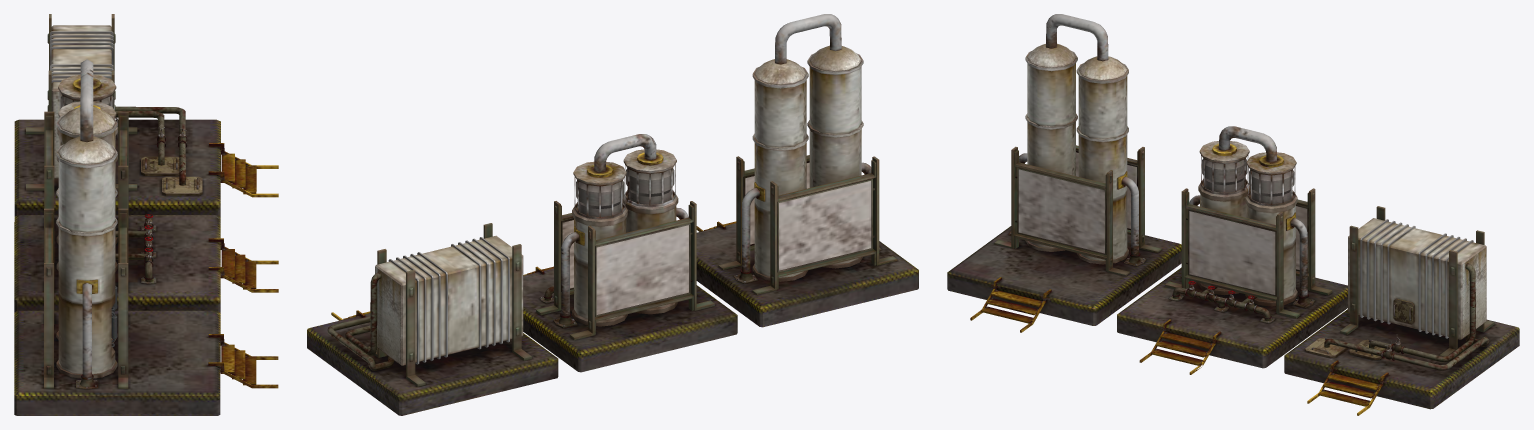
3 renders of one model, left to right at view 1: azimuth 30°, elevation 25°; view 2: azimuth 150°, elevation 25°; view 3: azimuth 270°, elevation 25°, orthographic. The views are drawn at different scales.
Visible parts, largest first — view 1: AnyConv_com__model; view 2: AnyConv_com__model; view 3: AnyConv_com__model.
Part boxes in pixels (left/top/right/bottom): AnyConv_com__model: left=14, top=14, right=278, bottom=415; AnyConv_com__model: left=307, top=14, right=918, bottom=415; AnyConv_com__model: left=947, top=14, right=1519, bottom=415.
Bounding box in the file's own units: 1967 × 1209 × 2514.
Materials: 1 (1 with a texture image).
